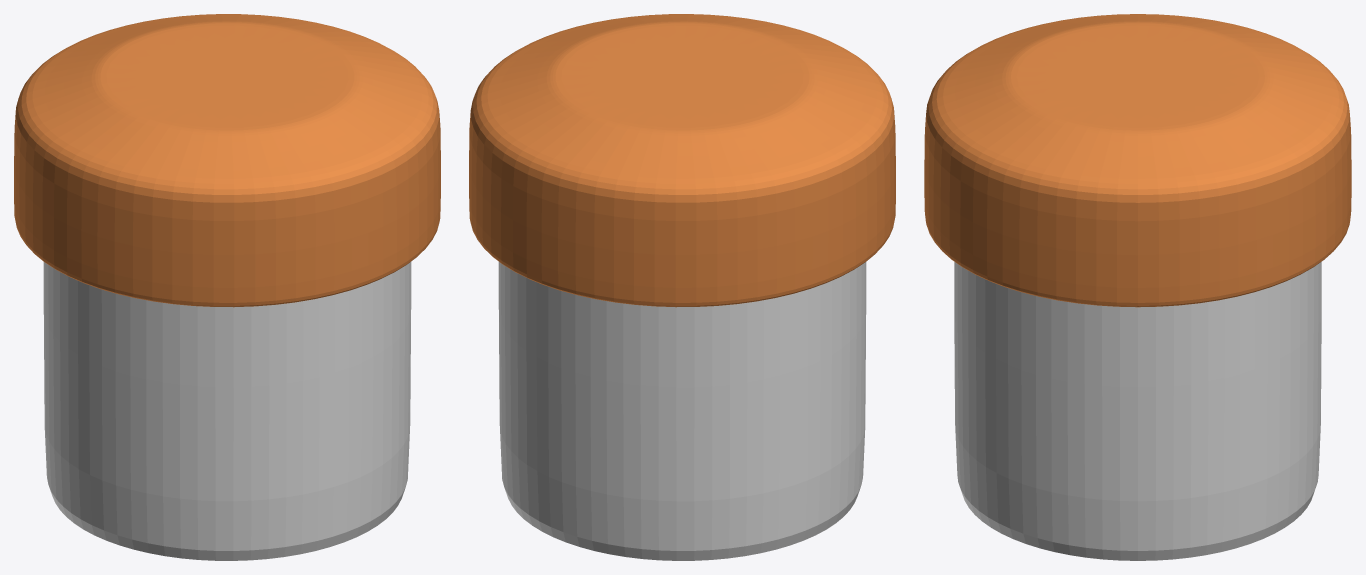
Rendered from PlasticContainer.fbx.
The picture shows the model from 3 angles, left to right: view 1: azimuth 30°, elevation 25°; view 2: azimuth 150°, elevation 25°; view 3: azimuth 270°, elevation 25°; orthographic projection.
Visible parts, largest first — view 1: Cylinder.002; view 2: Cylinder.002; view 3: Cylinder.002.
Part boxes in pixels (left/top/right/bottom): Cylinder.002: left=14, top=14, right=440, bottom=560; Cylinder.002: left=469, top=14, right=895, bottom=560; Cylinder.002: left=924, top=14, right=1351, bottom=560.
Size of the model in its own units: 231 by 248 by 231.
